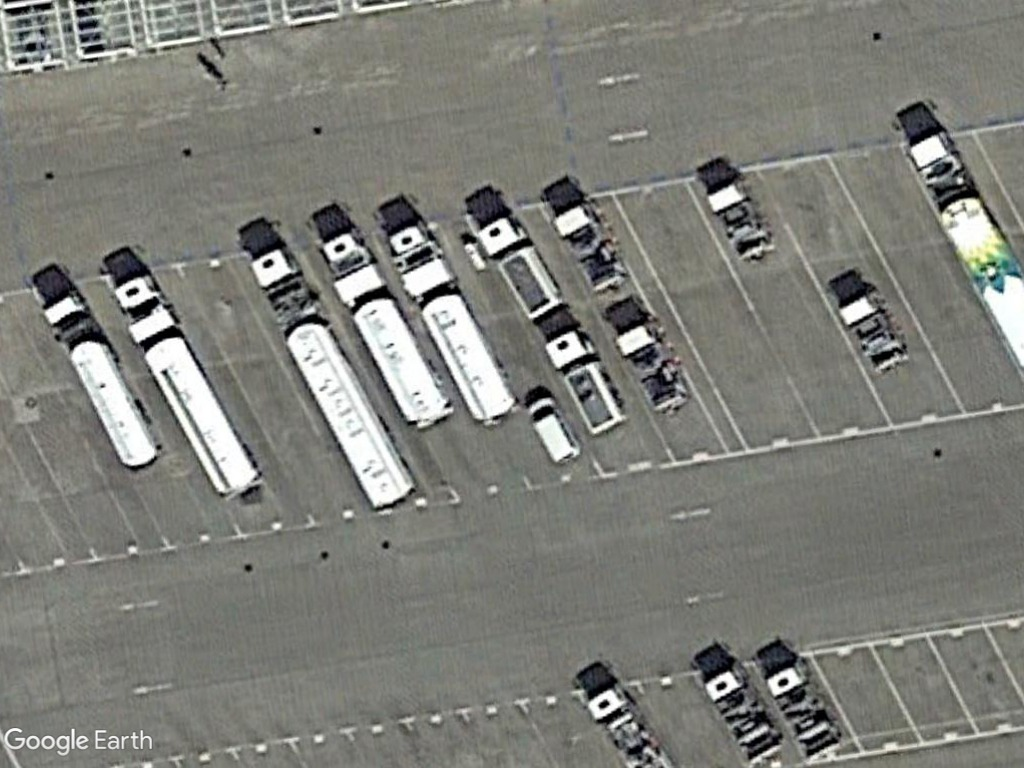longvehicle: (281, 316, 415, 513), (143, 331, 264, 503), (413, 288, 521, 429), (349, 291, 452, 431), (59, 329, 152, 480)
van: (518, 389, 589, 473)
